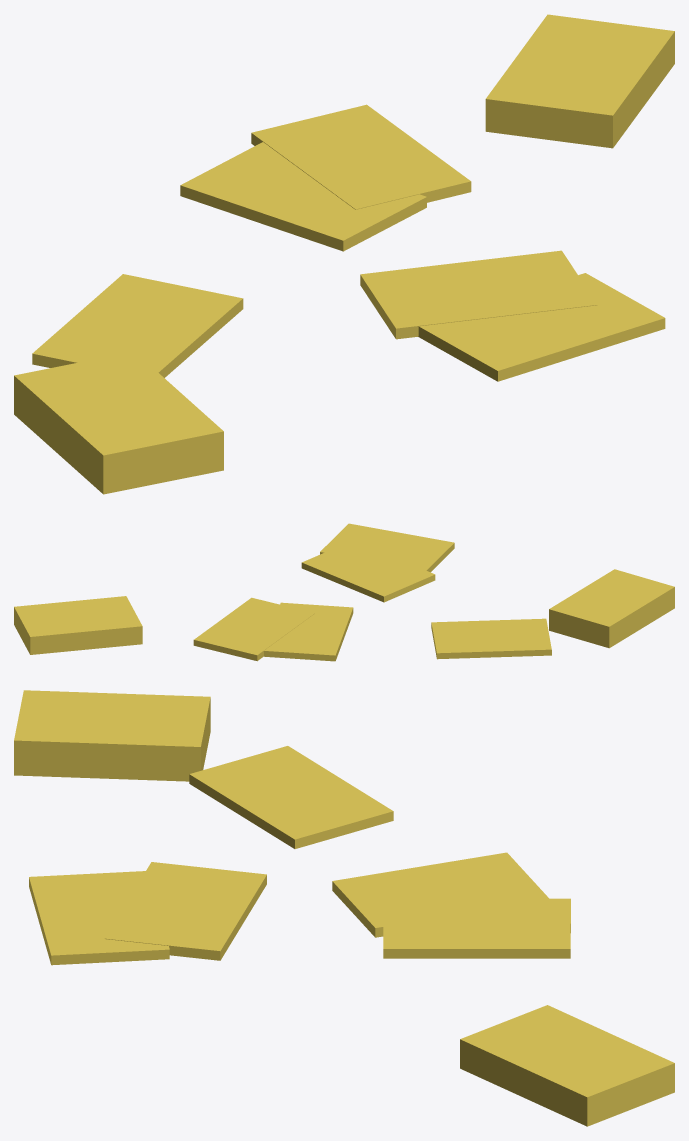
File: papel2.glb
3 views of the same model, one above another, from view 1: azimuth 30°, elevation 25°; view 2: azimuth 150°, elevation 25°; view 3: azimuth 270°, elevation 25° (orthographic). The views are drawn at different scales.
Parts seen in each view (by area): view 1: Mesa.006; view 2: Mesa.006; view 3: Mesa.006.
Part boxes in pixels (x1=…): Mesa.006: x1=14, y1=14, x2=674, y2=494; Mesa.006: x1=14, y1=523, x2=674, y2=661; Mesa.006: x1=14, y1=690, x2=674, y2=1126.
Bounding box in the file's own units: 1.35 × 0.0797 × 0.9708.
